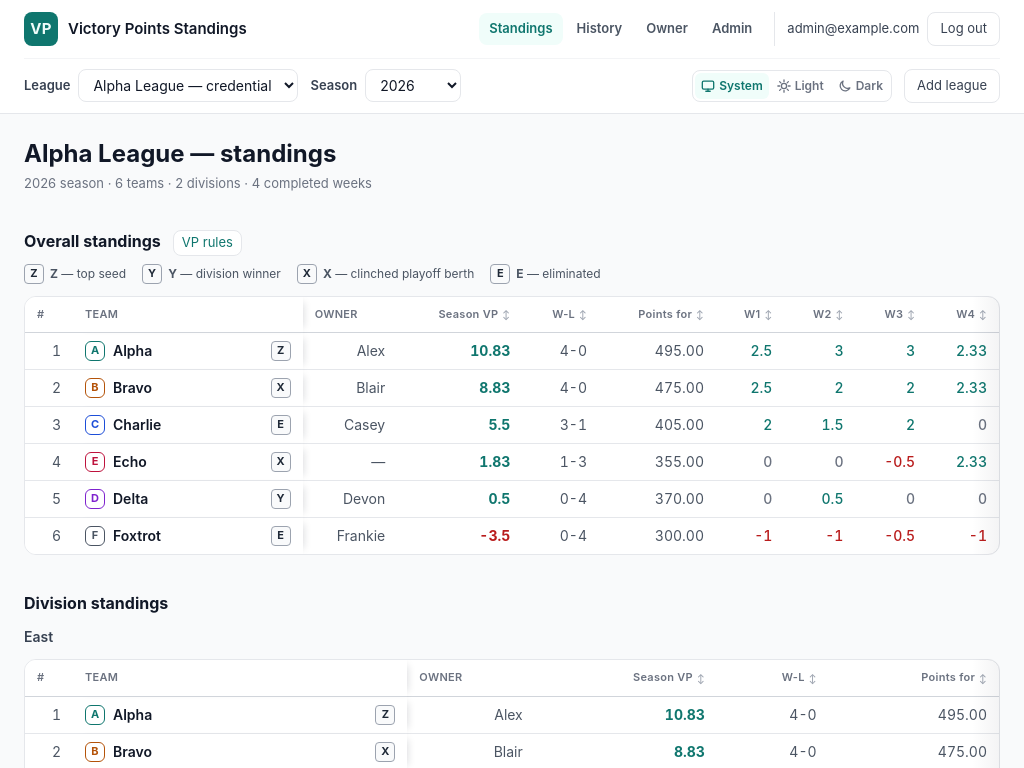
App routing › picks the first league and its latest season on load, then logs out
The width and height of the screenshot is (1024, 768).
Expected: the heading "Alpha League — standings" is shown, [24,138,336,168]
Expected: the dropdown labelled "Season" shows "2026", [365,69,461,102]
Click the button "Log out": [964, 29] box [928,12,1000,46]
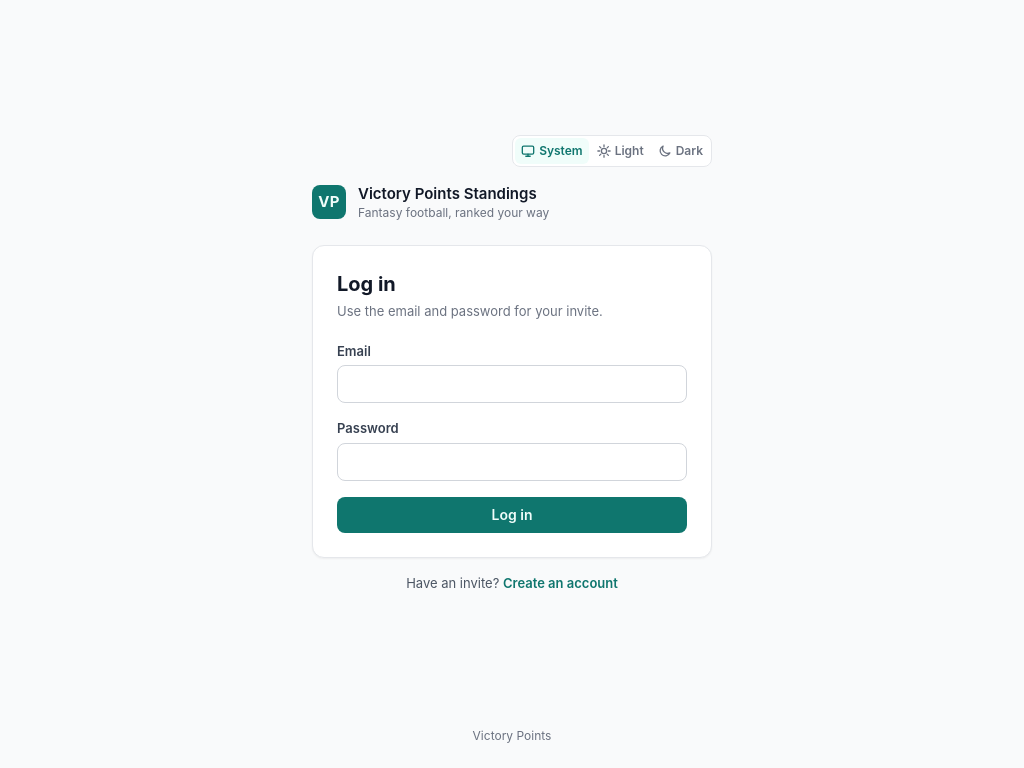
Now the heading "Log in" is shown, box [337,272,396,296]
